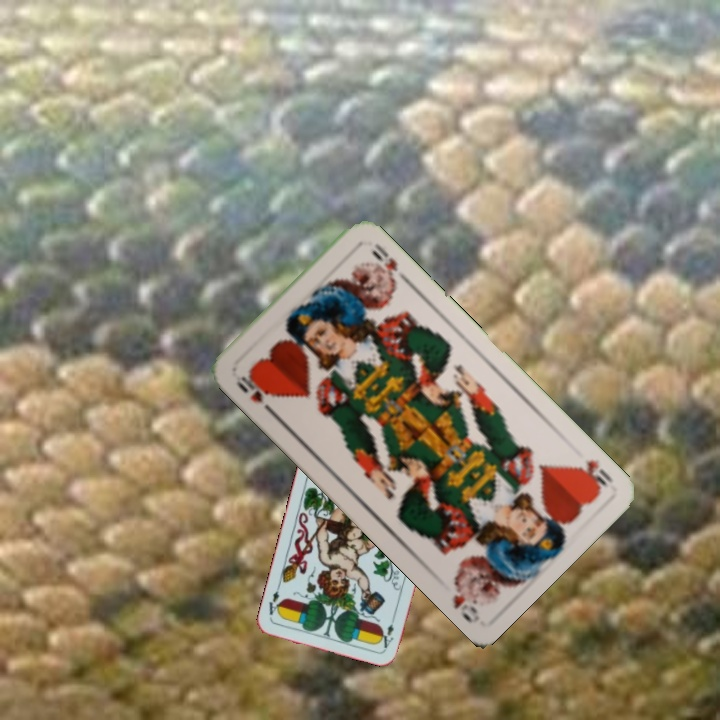EA: (379, 620, 397, 651)
HO: (232, 367, 277, 417), (571, 456, 616, 495)
